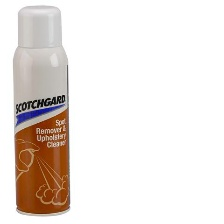aerosol_cans: (6, 2, 75, 218)
